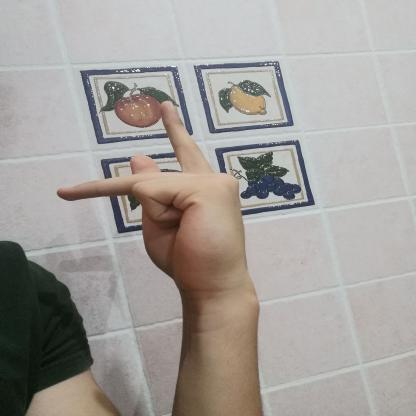DHAA: (45, 92, 268, 300)
